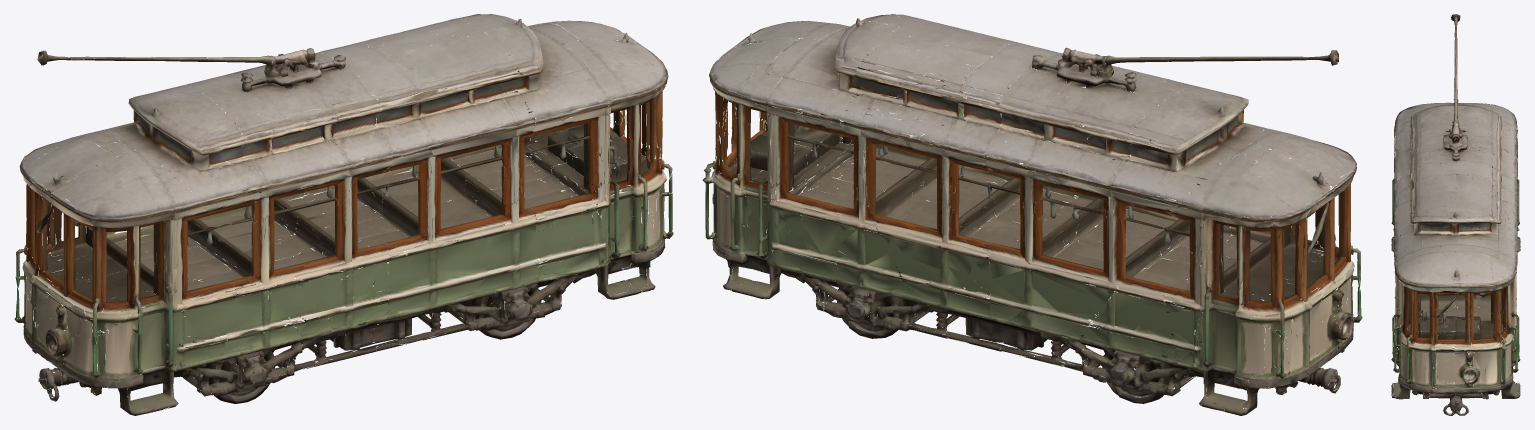
The model's file is tram32.glb.
3 views of the same model, side by side, from view 1: azimuth 30°, elevation 25°; view 2: azimuth 150°, elevation 25°; view 3: azimuth 270°, elevation 25° (orthographic). The views are drawn at different scales.
Parts seen in each view (by area): view 1: tripo_node_93047469-ecc5-48d0-9800-e3ba9a554870; view 2: tripo_node_93047469-ecc5-48d0-9800-e3ba9a554870; view 3: tripo_node_93047469-ecc5-48d0-9800-e3ba9a554870.
Boxes of the visible parts, x1=… form: tripo_node_93047469-ecc5-48d0-9800-e3ba9a554870: x1=14, y1=14, x2=673, y2=415; tripo_node_93047469-ecc5-48d0-9800-e3ba9a554870: x1=702, y1=14, x2=1362, y2=415; tripo_node_93047469-ecc5-48d0-9800-e3ba9a554870: x1=1391, y1=14, x2=1520, y2=415.
Bounding box in the file's own units: 0.9809 × 0.5654 × 0.2852.
1 material, 1 textured.
